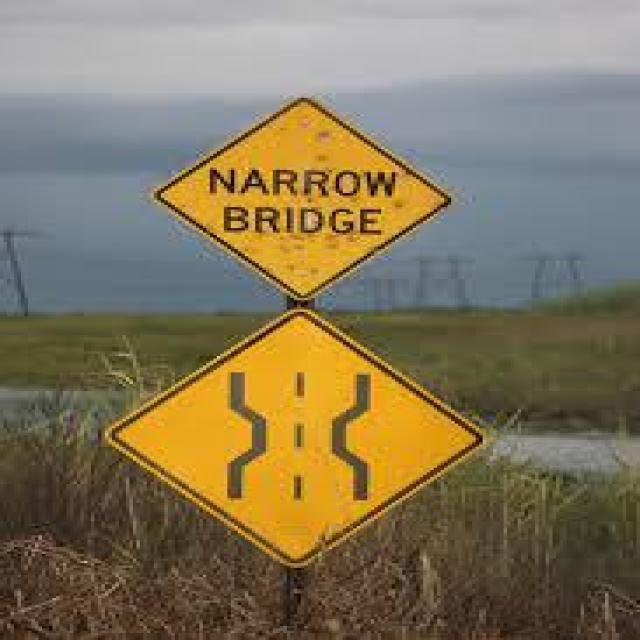Narrow_Bridge: (108, 302, 486, 564)
